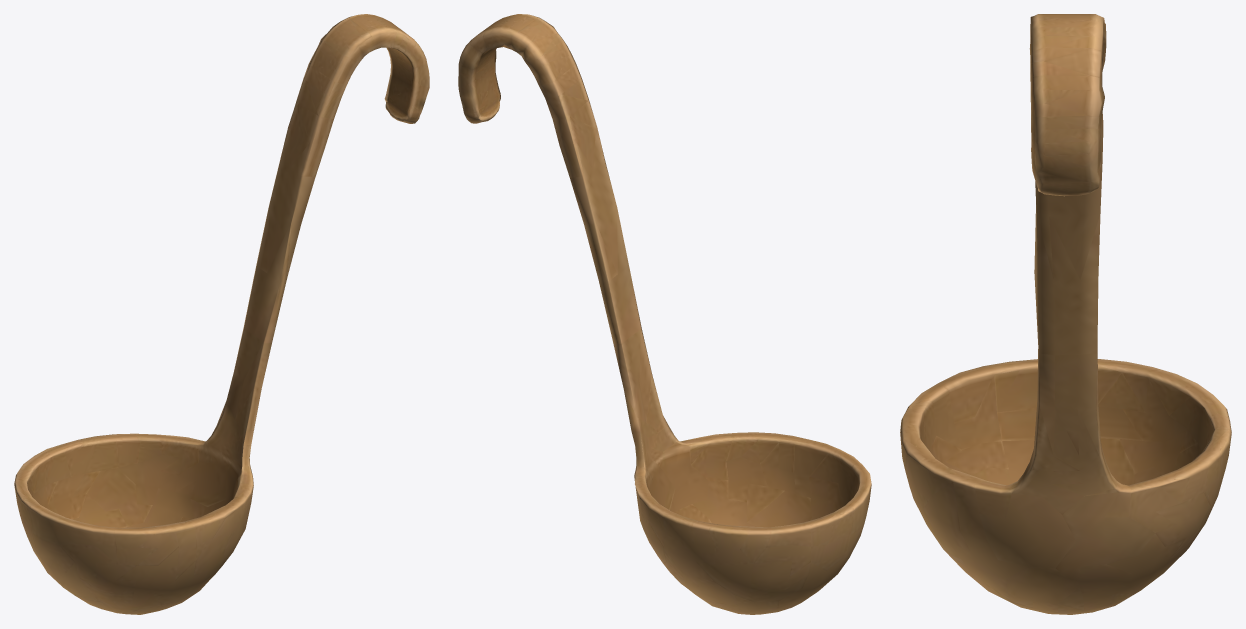
Rendered from item-brassLadle.glb.
The picture shows the model from 3 angles, left to right: view 1: azimuth 30°, elevation 25°; view 2: azimuth 150°, elevation 25°; view 3: azimuth 270°, elevation 25°; orthographic projection. The views are drawn at different scales.
Bounding box in the file's own units: 0.7368 × 0.9512 × 0.3848.
Materials: 1 (1 with a texture image).
